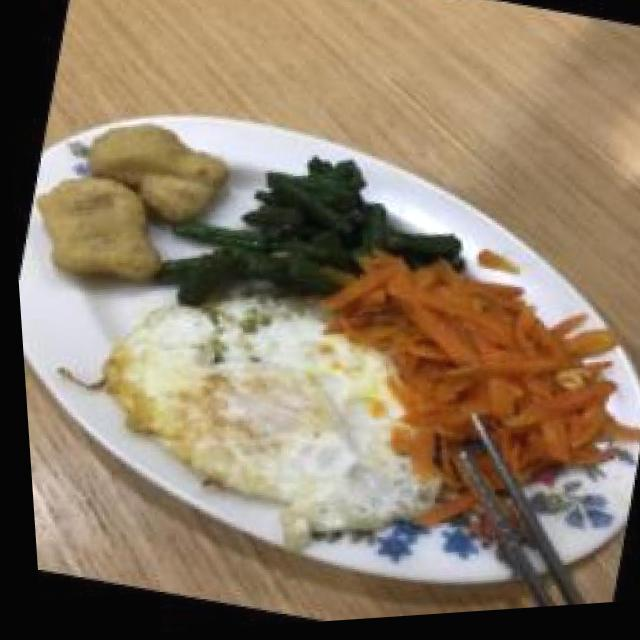carrot_eggs: (350, 253, 639, 542)
chicken_nuggets: (11, 98, 241, 310)
fried_eggs: (67, 254, 460, 562)
